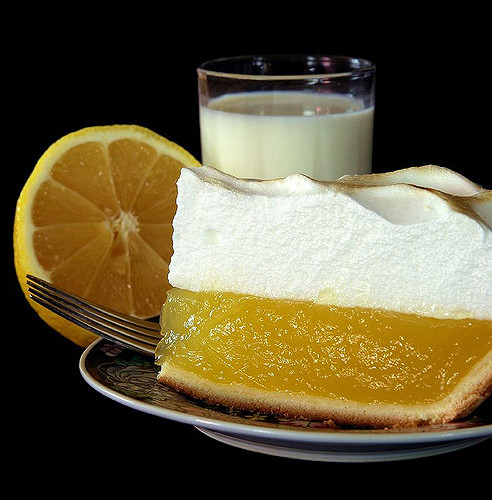glass of milk: (198, 67, 382, 167)
